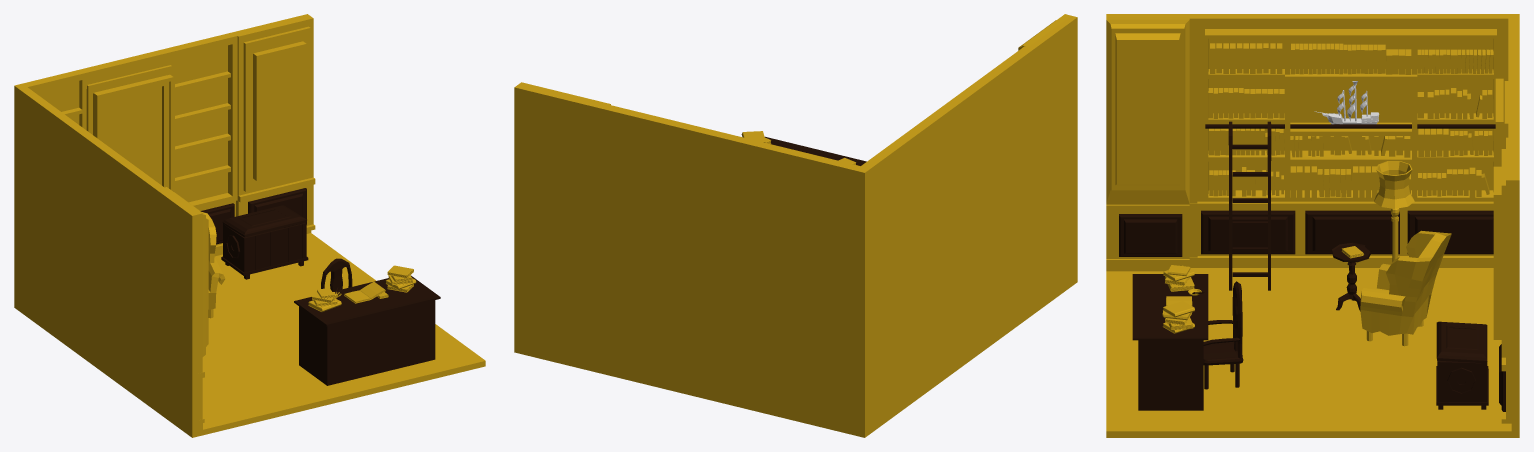
The model's file is Study.fbx.
3 renders of one model, left to right at view 1: azimuth 30°, elevation 25°; view 2: azimuth 150°, elevation 25°; view 3: azimuth 270°, elevation 25°, orthographic. The views are drawn at different scales.
Visible parts, largest first — view 1: Cube, Cube.202, Cube.006, Cube.001, Cube.201, Cube.203, Libros.011; view 2: Cube, Cube.202; view 3: Cube, Cube.202, Cube.201, Cube.001, Cube.068, Cube.203, Cylinder.003, Cube.205, Cylinder, Cube.006.
Boxes of the visible parts, left/top/right/bottom form: Cube: left=14, top=14, right=485, bottom=437; Cube.202: left=294, top=275, right=440, bottom=385; Cube.006: left=94, top=74, right=173, bottom=191; Cube.001: left=221, top=205, right=308, bottom=279; Cube.201: left=202, top=212, right=225, bottom=318; Cube.203: left=321, top=258, right=352, bottom=291; Libros.011: left=344, top=281, right=385, bottom=303; Cube: left=514, top=14, right=1077, bottom=437; Cube.202: left=765, top=136, right=866, bottom=165; Cube: left=1106, top=14, right=1519, bottom=437; Cube.202: left=1132, top=274, right=1208, bottom=410; Cube.201: left=1360, top=230, right=1451, bottom=346; Cube.001: left=1436, top=321, right=1488, bottom=409; Cube.068: left=1228, top=121, right=1271, bottom=290; Cube.203: left=1203, top=281, right=1243, bottom=389; Cylinder.003: left=1374, top=161, right=1414, bottom=208; Cube.205: left=1314, top=81, right=1379, bottom=124; Cylinder: left=1332, top=242, right=1371, bottom=311; Cube.006: left=1495, top=78, right=1503, bottom=166.
Size of the model in its own units: 537 by 388 by 564.
